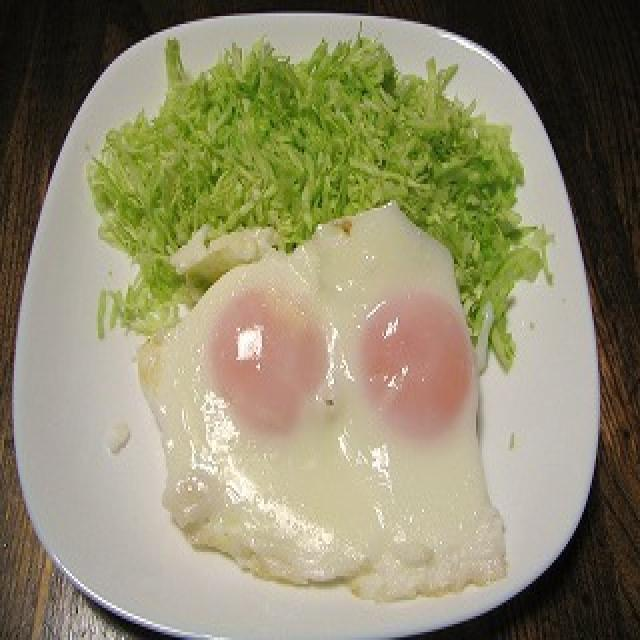鸡蛋料理: (132, 192, 524, 608)
